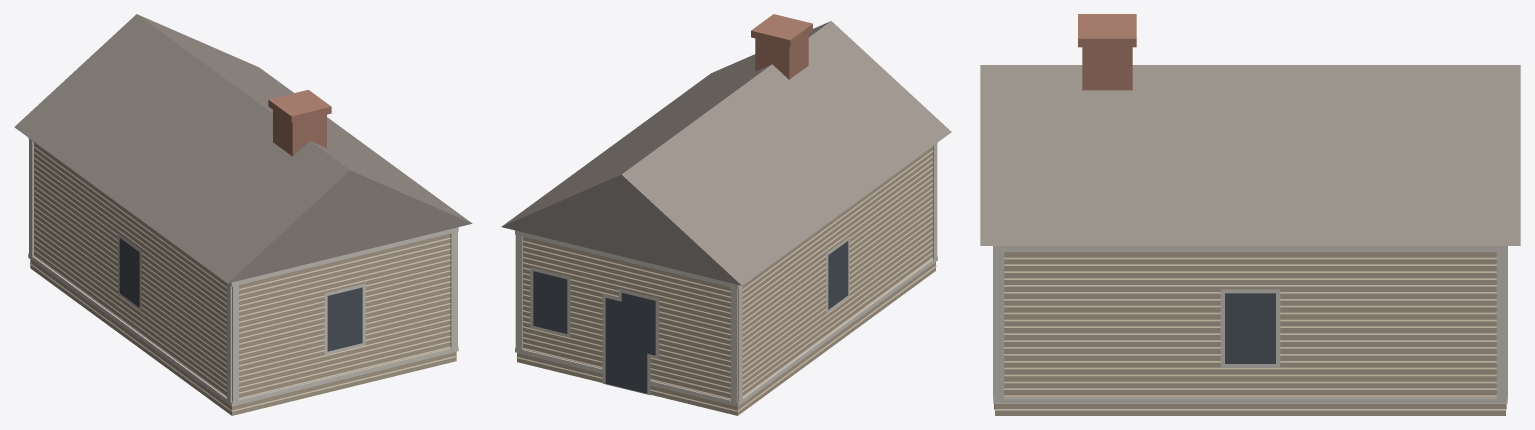
Rendered from inf_bakery_lake__inferred_1835.glb.
The picture shows the model from 3 angles, left to right: view 1: azimuth 30°, elevation 25°; view 2: azimuth 150°, elevation 25°; view 3: azimuth 270°, elevation 25°; orthographic projection. The views are drawn at different scales.
Visible parts, largest first — view 1: inf_bakery_lake__inferred_1835; view 2: inf_bakery_lake__inferred_1835; view 3: inf_bakery_lake__inferred_1835.
Part boxes in pixels (box(x1,y1,x2,y2)): inf_bakery_lake__inferred_1835: box(14, 14, 472, 415); inf_bakery_lake__inferred_1835: box(501, 14, 951, 415); inf_bakery_lake__inferred_1835: box(980, 14, 1520, 415).
Size of the model in its own units: 5.99 by 5.9 by 9.03.
